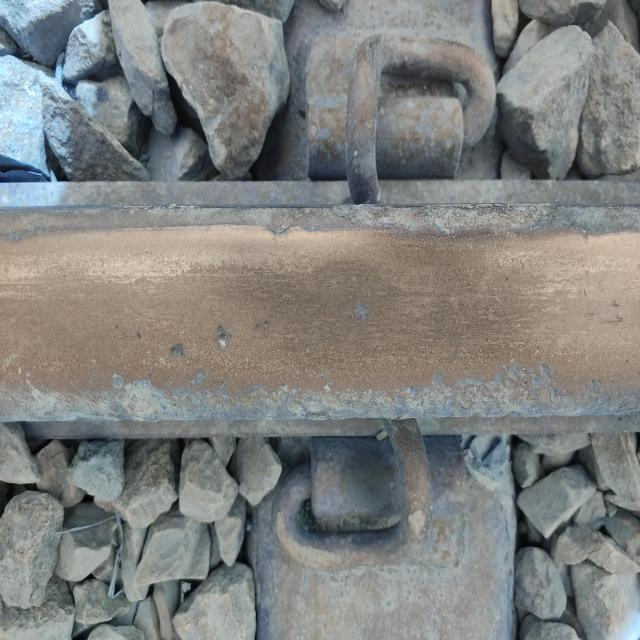Good Fasteners: (293, 28, 528, 210), (276, 420, 459, 574)
